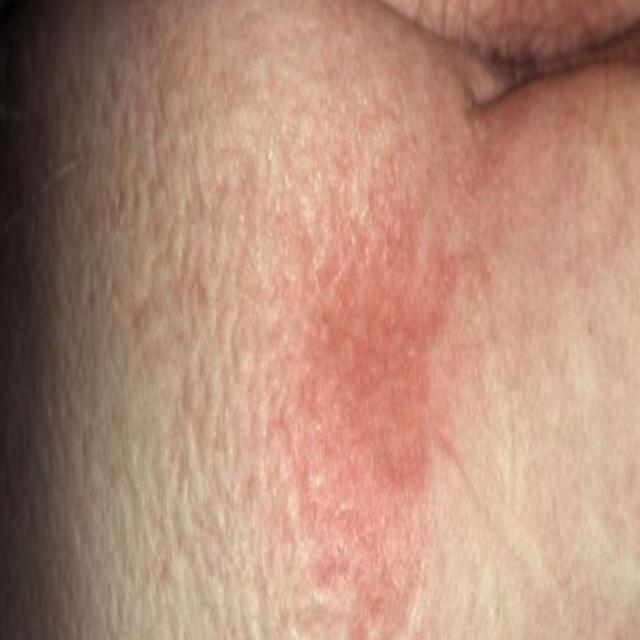stage-1: (292, 242, 448, 624)
